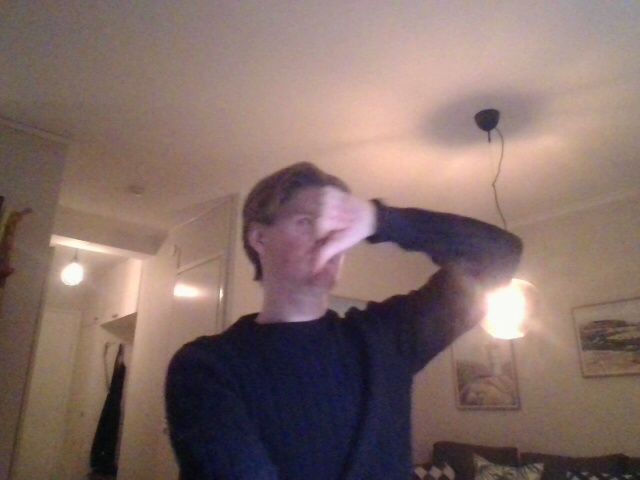ThumbsDown: (311, 184, 372, 275)
